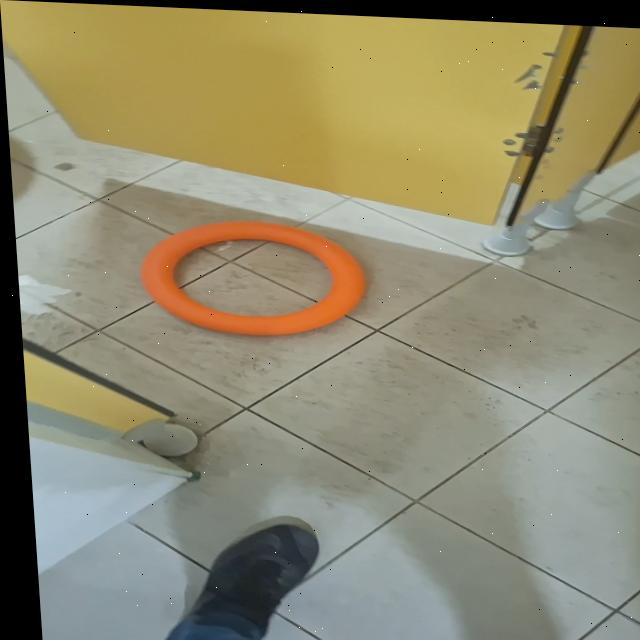note: (133, 214, 367, 338)
